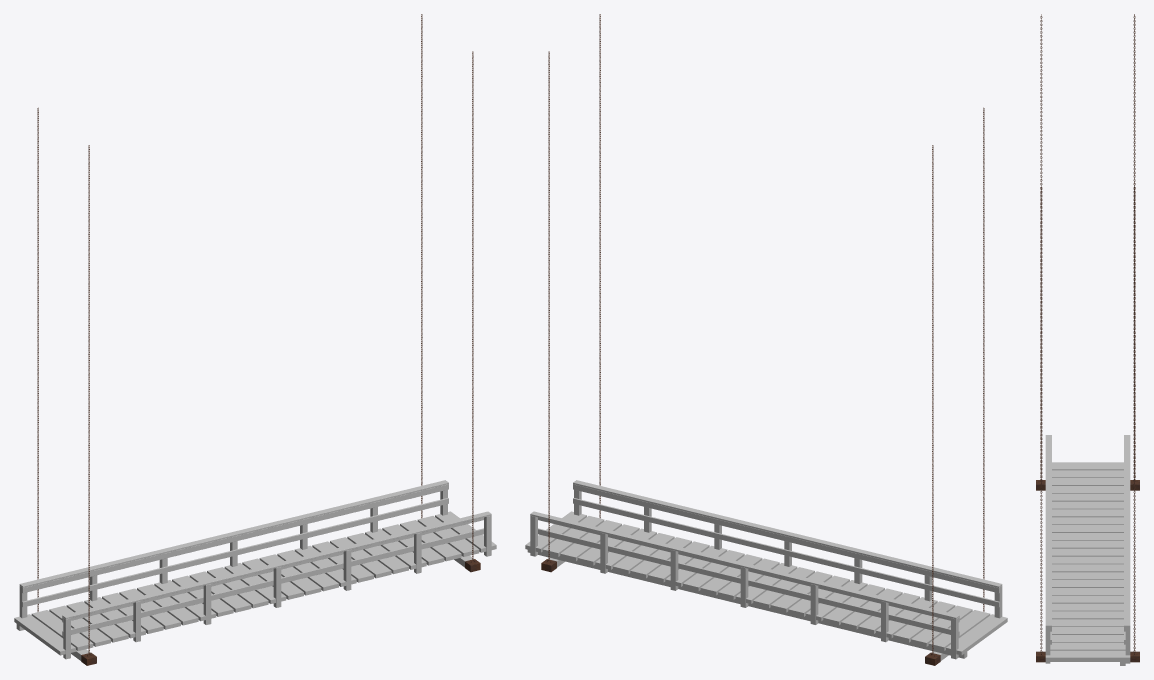
Rendered from hangingBridge.obj.
3 renders of one model, left to right at view 1: azimuth 30°, elevation 25°; view 2: azimuth 150°, elevation 25°; view 3: azimuth 270°, elevation 25°, orthographic. The views are drawn at different scales.
Visible parts, largest first — view 1: Cube.132, Cube.133; view 2: Cube.132, Cube.133; view 3: Cube.132, Cube.133.
Part boxes in pixels (x1=…): Cube.132: x1=14, y1=480, x2=496, y2=660; Cube.133: x1=37, y1=14, x2=480, y2=665; Cube.132: x1=525, y1=480, x2=1007, y2=660; Cube.133: x1=541, y1=14, x2=984, y2=665; Cube.132: x1=1045, y1=435, x2=1130, y2=665; Cube.133: x1=1036, y1=14, x2=1139, y2=662.
Bounding box in the file's own units: 15.56 × 17.63 × 3.5.
